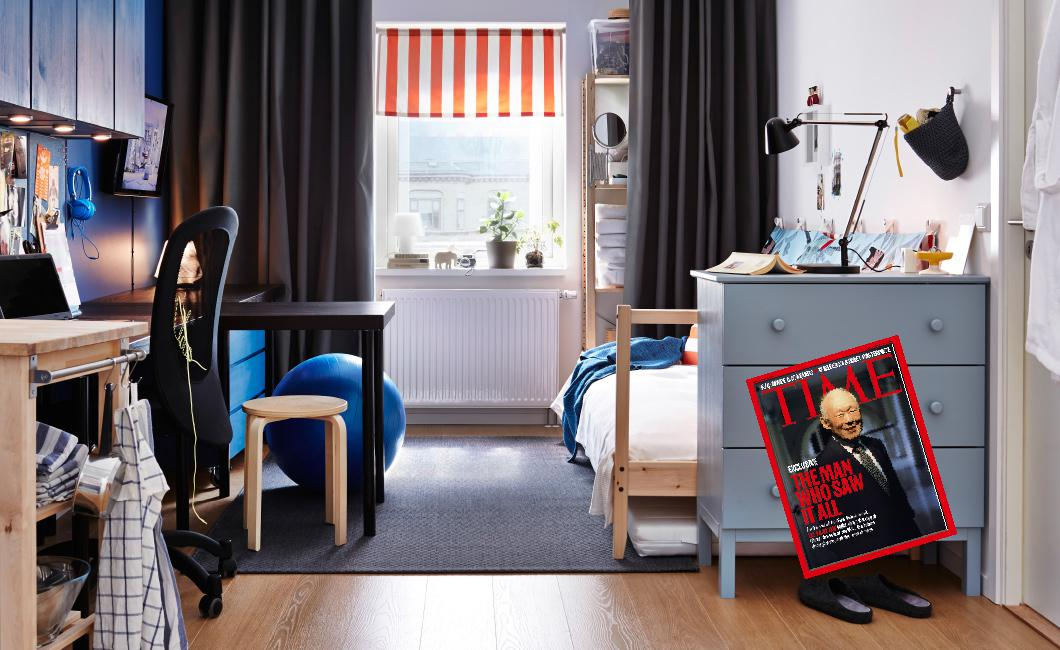times: (743, 319, 966, 584)
